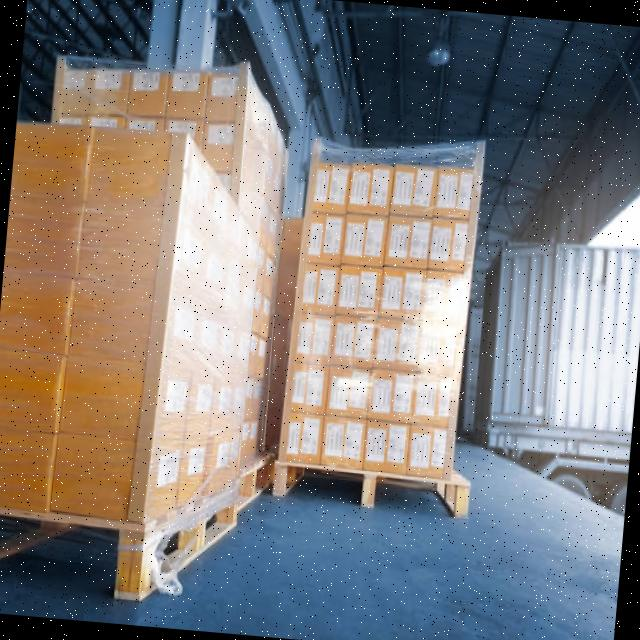Wooden-Pallets: (129, 477, 244, 621), (260, 456, 479, 519)
